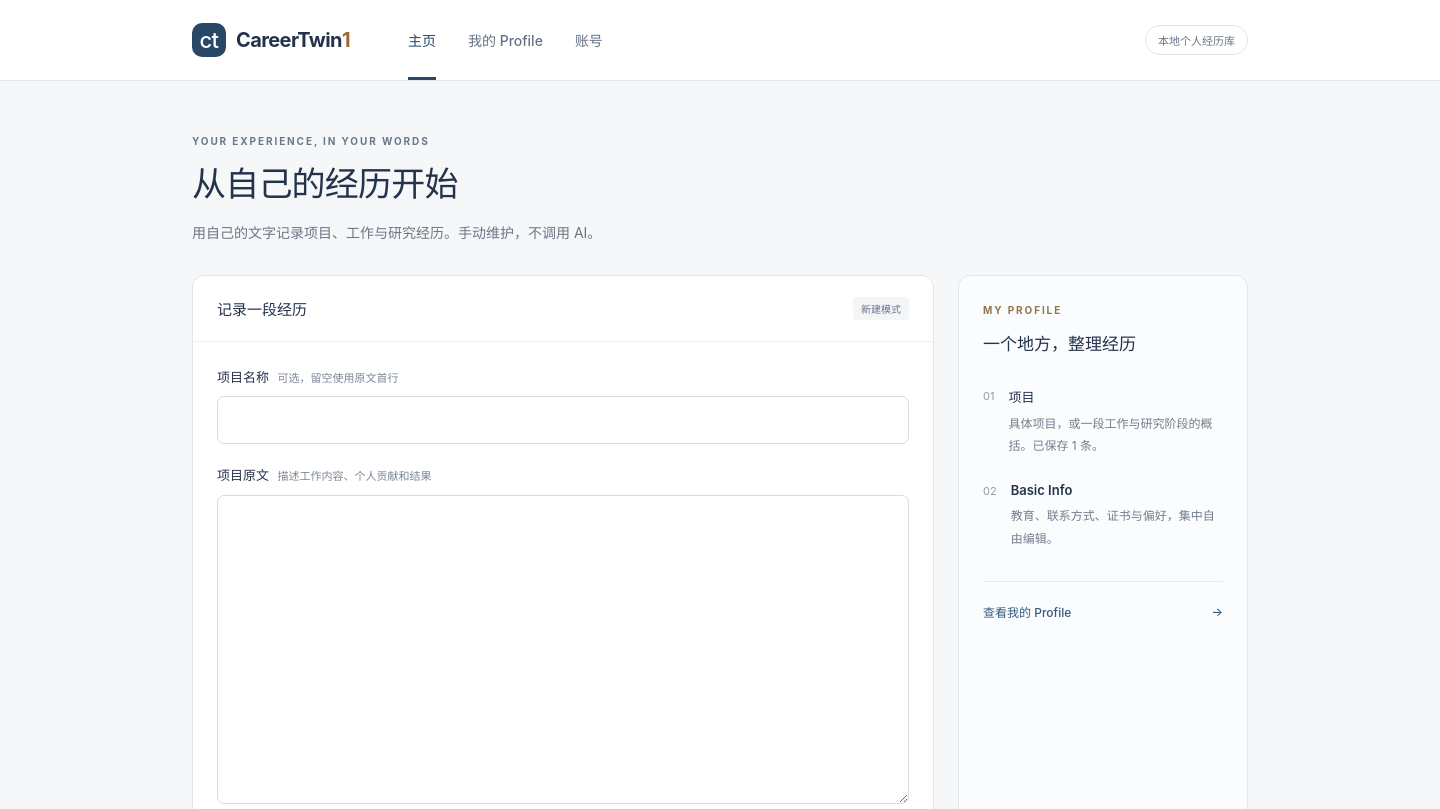
M1 UI protects manual input and accurately reports persistence › Edit loads the shared editor and rejected deletion leaves its target intact
Later steps or results of the test are not shown.
Click the link "我的 Profile" at (505, 40), box [468,32,543,49]
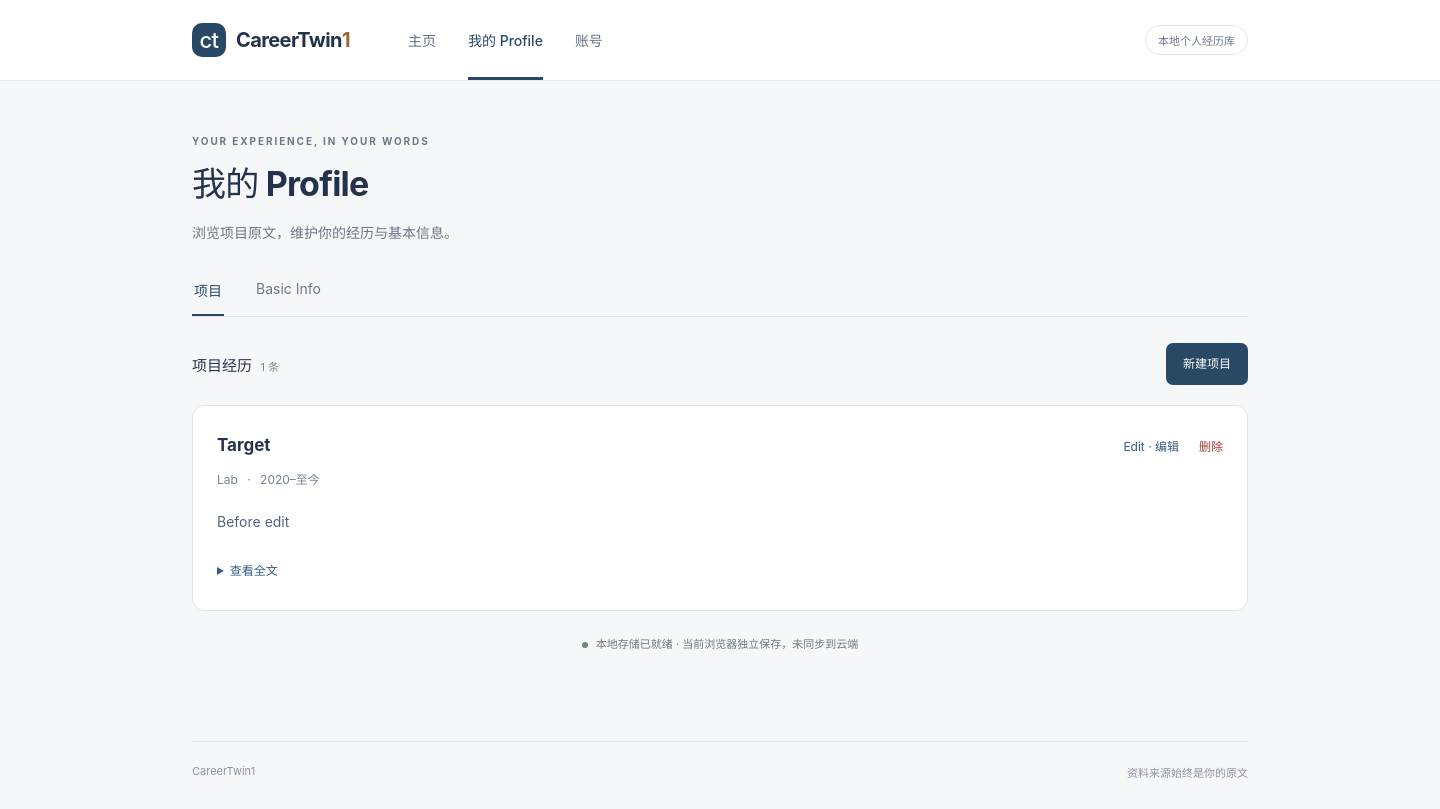
Click the button "删除" at (1211, 446), box [1199,430,1223,462]
Click the button "Edit · 编辑" at (1151, 446), box [1123,430,1179,462]
(page scrolled)
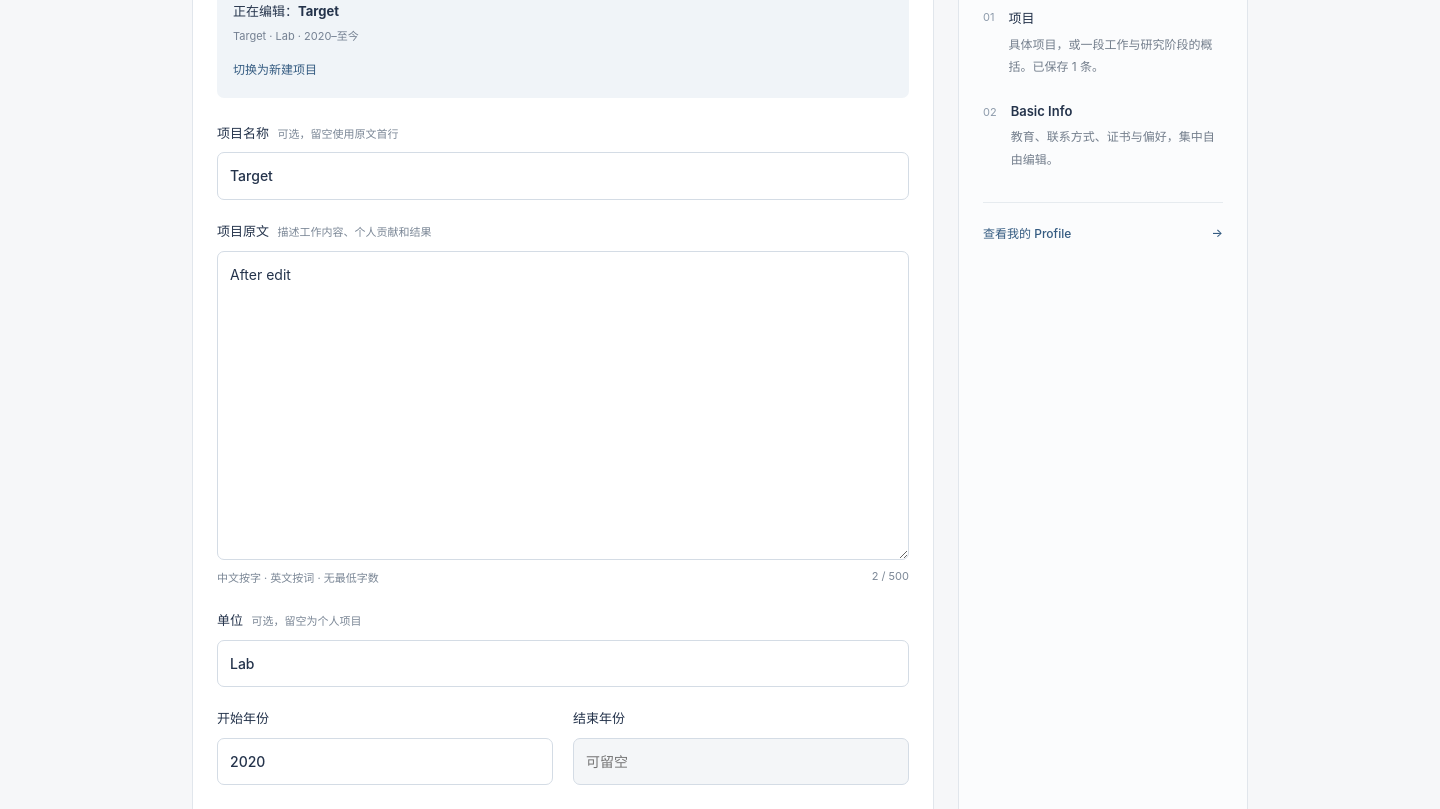
Check: the field labelled "单位 可选，留空为个人项目" holds "Lab", box [217,640,909,687]
